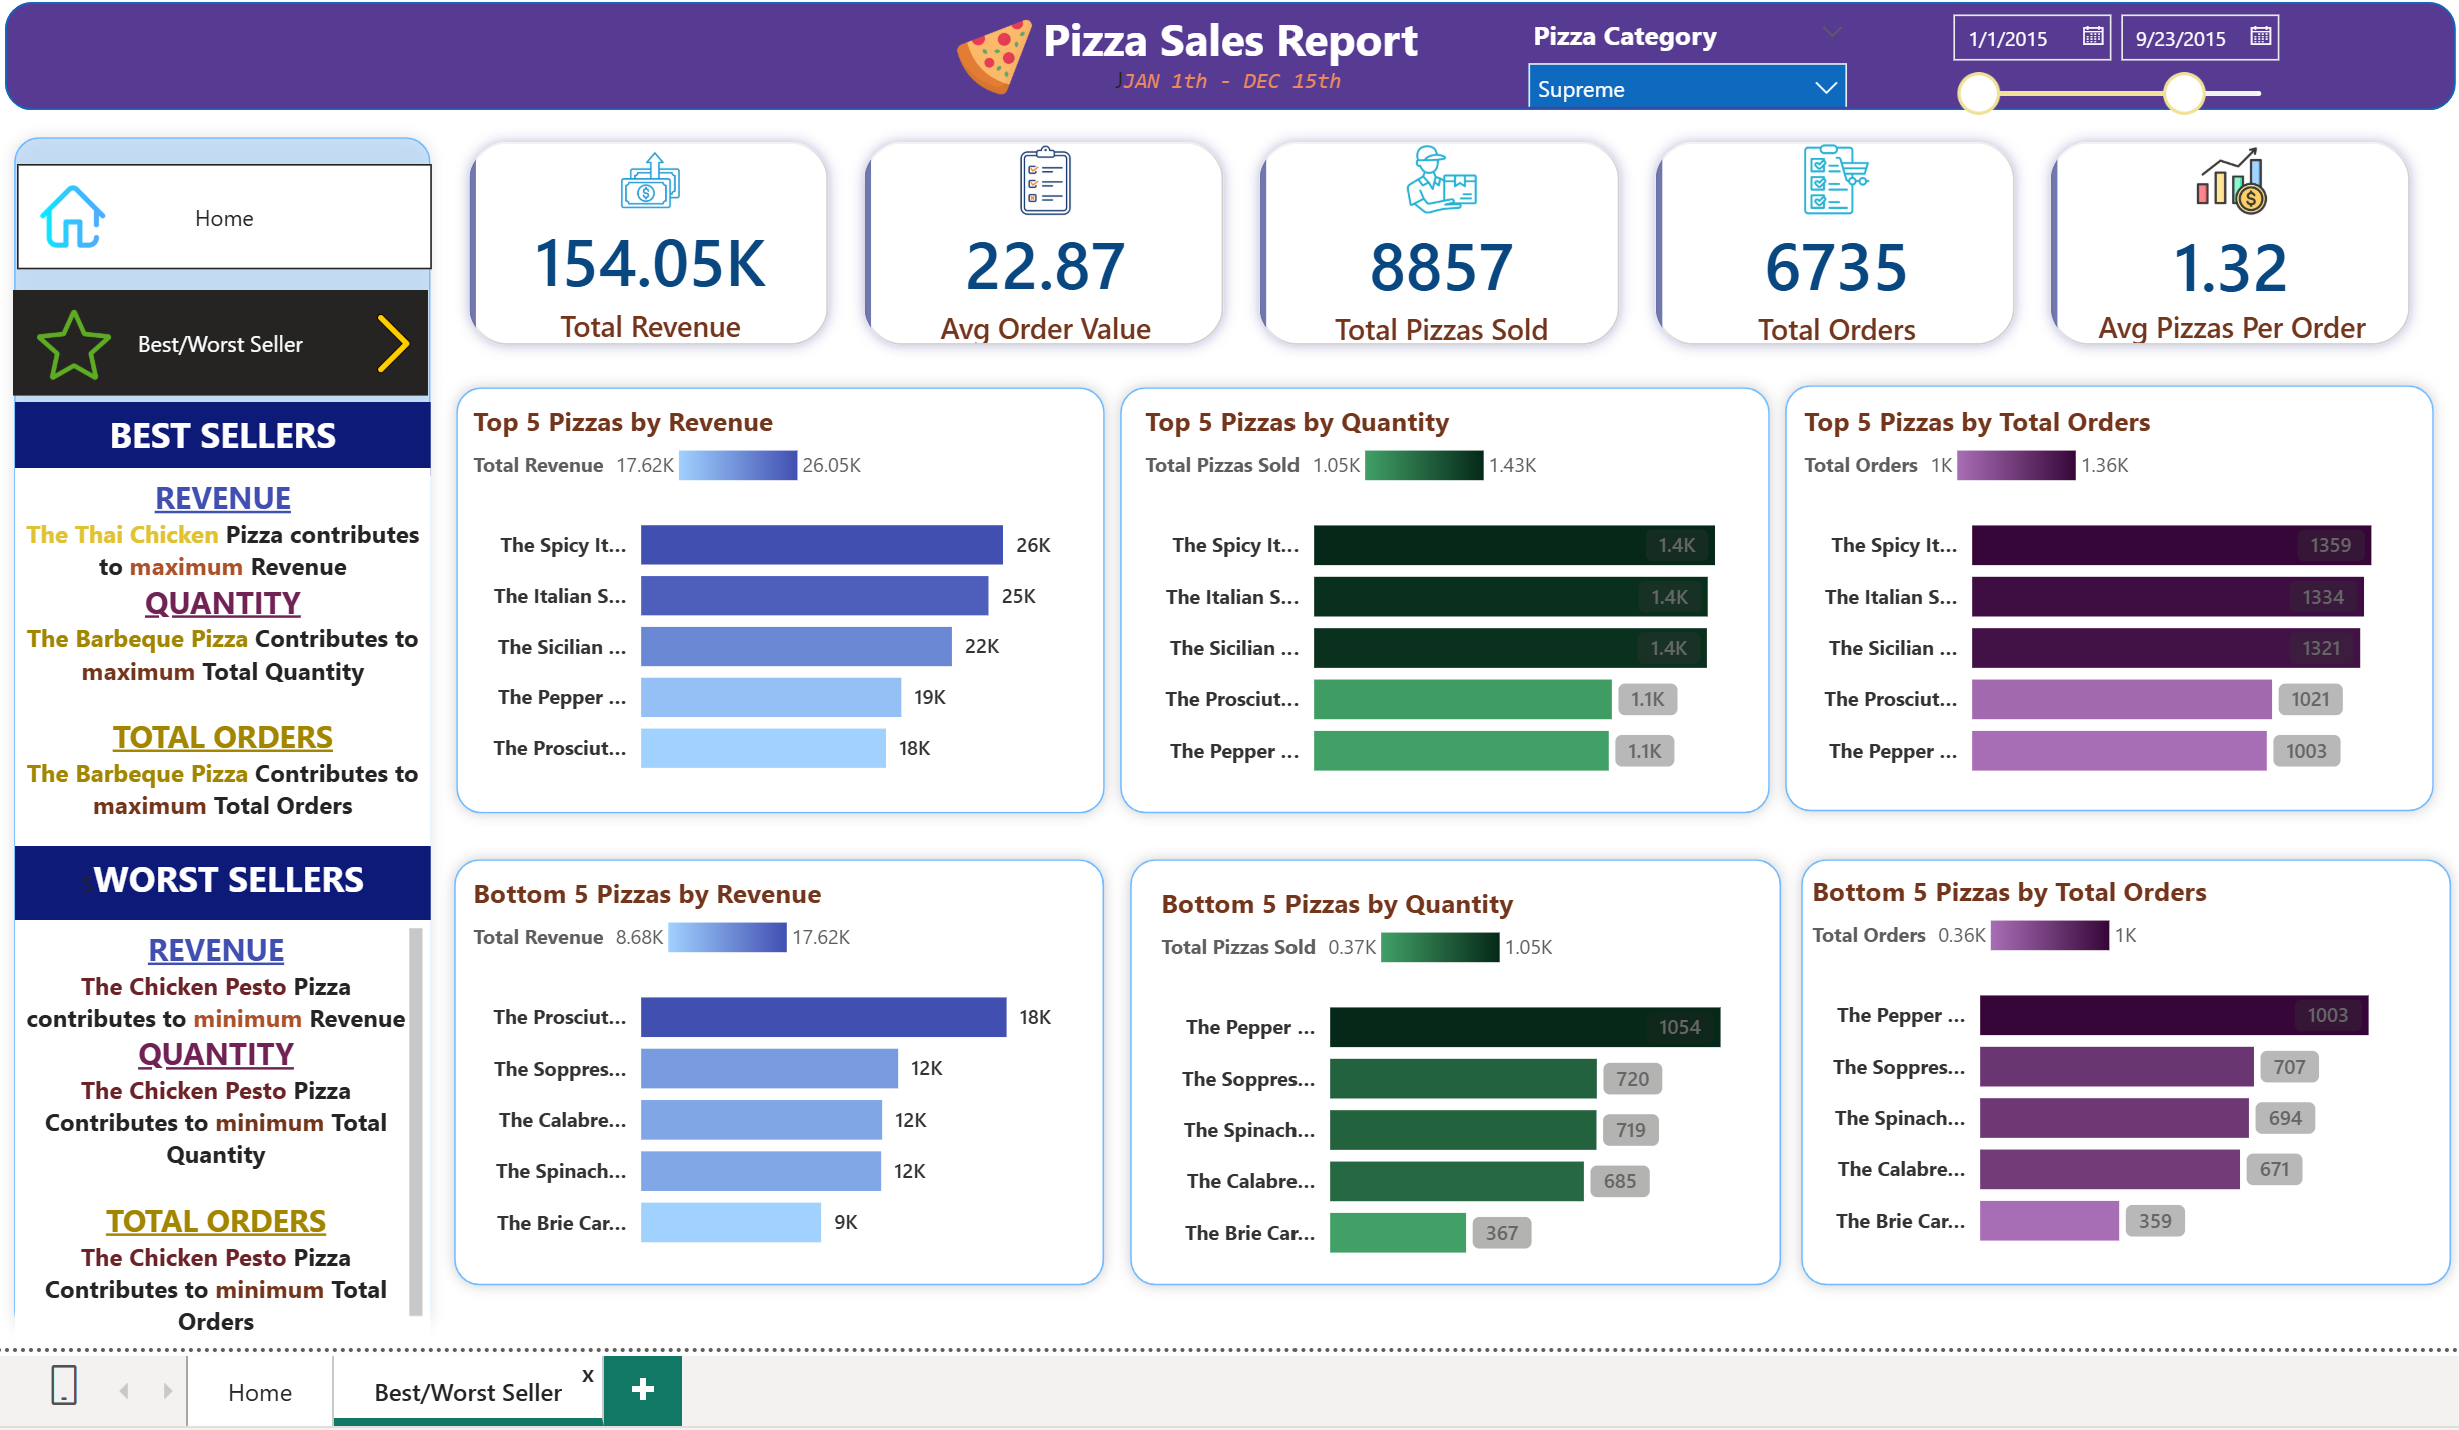

What the dashboard file says about the page in this screenshot:
{"tool":"powerbi","page":{"name":"Best/Worst Seller","canvas":[1500,820],"ordinal":1},"visuals":[{"type":"shape","box":[4.5,76.2,268.9,744],"z":0},{"type":"textbox","box":[13.4,245,252.5,44.8],"z":1000},{"type":"textbox","box":[286.9,264.4,186.8,50.8],"z":2000},{"type":"cardVisual","fields":{"Data":["pizza_sales.Total Revenue","pizza_sales.Avg Order Value","pizza_sales.Total Pizzas Sold","pizza_sales.Total Orders","pizza_sales.Avg Pizzas Per Order"]},"box":[273.4,71.7,1214.6,155.4],"z":3000},{"type":"shape","box":[7.5,3,1488,65.7],"z":4000},{"type":"textbox","box":[601.7,1.7,300,47.5],"z":5000},{"type":"textbox","box":[676.3,35.6,196.6,37.3],"z":6000},{"type":"image","box":[540.7,11.9,135.6,47.5],"z":7000},{"type":"shape","box":[272.9,228.8,410,275],"z":8000},{"type":"textbox","box":[13.4,285.4,252.5,230.1],"z":9000},{"type":"textbox","box":[13.4,515.4,252.5,44.8],"z":10000},{"type":"textbox","box":[13.4,560.3,252.5,260],"z":11000},{"type":"slicer","fields":{"Values":["pizza_sales.pizza_category"]},"box":[921.8,6,213.6,59.8],"z":12000},{"type":"slicer","fields":{"Values":["pizza_sales.order_date"]},"box":[1177.3,0,221.1,73.2],"z":13000},{"type":"shape","box":[676.8,228.6,410,274.9],"z":14000},{"type":"shape","box":[1080.2,227.1,410,274.9],"z":15000},{"type":"shape","box":[271.9,515.4,410.9,274.9],"z":16000},{"type":"shape","box":[682.8,515.4,410.9,274.9],"z":17000},{"type":"shape","box":[1089.1,515.4,410.9,274.9],"z":18000},{"type":"barChart","title":"Top 5 Pizzas by Revenue ","fields":{"Category":["pizza_sales.pizza_name"],"Y":["pizza_sales.Total Revenue"]},"box":[287.1,245.8,375,240.4],"z":19000},{"type":"barChart","title":"Bottom 5 Pizzas by Revenue ","fields":{"Category":["pizza_sales.pizza_name"],"Y":["pizza_sales.Total Revenue"]},"box":[286.9,531.9,375,242],"z":20000},{"type":"barChart","title":"Top 5 Pizzas by Quantity","fields":{"Category":["pizza_sales.pizza_name"],"Y":["pizza_sales.Total Pizzas Sold"]},"box":[694.4,245.8,375,242.2],"z":21000},{"type":"barChart","title":"Bottom 5 Pizzas by Quantity","fields":{"Category":["pizza_sales.pizza_name"],"Y":["pizza_sales.Total Pizzas Sold"]},"box":[705.1,538.3,375,242.2],"z":22000},{"type":"barChart","title":"Top 5 Pizzas by Total Orders","fields":{"Category":["pizza_sales.pizza_name"],"Y":["pizza_sales.Total Orders"]},"box":[1094.5,245.8,375,242.2],"z":23000},{"type":"barChart","title":"Bottom 5 Pizzas by Total Orders","fields":{"Category":["pizza_sales.pizza_name"],"Y":["pizza_sales.Total Orders"]},"box":[1099.9,531.1,375,242.2],"z":24000},{"type":"pageNavigator","box":[12.6,177.6,253,64.6],"z":25000},{"type":"pageNavigator","box":[14.4,100.5,253,64.6],"z":26000},{"type":"image","box":[201,192,86.1,35.9],"z":27000},{"type":"image","box":[26.9,113,43.1,39.5],"z":28000},{"type":"image","box":[26.9,177.6,44.9,66.4],"z":29000}]}

Visuals, with their boxes on the page's 1500x820 design canvas (x1, y1, x2, y2). These are canvas units, not pixel positions in the 2459x1430 screenshot, which may show the page scaled, cropped or inside an application window:
shape: [left=4, top=76, right=273, bottom=820]
textbox: [left=13, top=245, right=266, bottom=290]
textbox: [left=287, top=264, right=474, bottom=315]
cardVisual - pizza_sales.Total Revenue x pizza_sales.Avg Order Value: [left=273, top=72, right=1488, bottom=227]
shape: [left=8, top=3, right=1496, bottom=69]
textbox: [left=602, top=2, right=902, bottom=49]
textbox: [left=676, top=36, right=873, bottom=73]
image: [left=541, top=12, right=676, bottom=59]
shape: [left=273, top=229, right=683, bottom=504]
textbox: [left=13, top=285, right=266, bottom=516]
textbox: [left=13, top=515, right=266, bottom=560]
textbox: [left=13, top=560, right=266, bottom=820]
slicer - pizza_sales.pizza_category: [left=922, top=6, right=1135, bottom=66]
slicer - pizza_sales.order_date: [left=1177, top=0, right=1398, bottom=73]
shape: [left=677, top=229, right=1087, bottom=504]
shape: [left=1080, top=227, right=1490, bottom=502]
shape: [left=272, top=515, right=683, bottom=790]
shape: [left=683, top=515, right=1094, bottom=790]
shape: [left=1089, top=515, right=1500, bottom=790]
"Top 5 Pizzas by Revenue " barChart: [left=287, top=246, right=662, bottom=486]
"Bottom 5 Pizzas by Revenue " barChart: [left=287, top=532, right=662, bottom=774]
"Top 5 Pizzas by Quantity" barChart: [left=694, top=246, right=1069, bottom=488]
"Bottom 5 Pizzas by Quantity" barChart: [left=705, top=538, right=1080, bottom=780]
"Top 5 Pizzas by Total Orders" barChart: [left=1094, top=246, right=1470, bottom=488]
"Bottom 5 Pizzas by Total Orders" barChart: [left=1100, top=531, right=1475, bottom=773]
pageNavigator: [left=13, top=178, right=266, bottom=242]
pageNavigator: [left=14, top=100, right=267, bottom=165]
image: [left=201, top=192, right=287, bottom=228]
image: [left=27, top=113, right=70, bottom=152]
image: [left=27, top=178, right=72, bottom=244]
